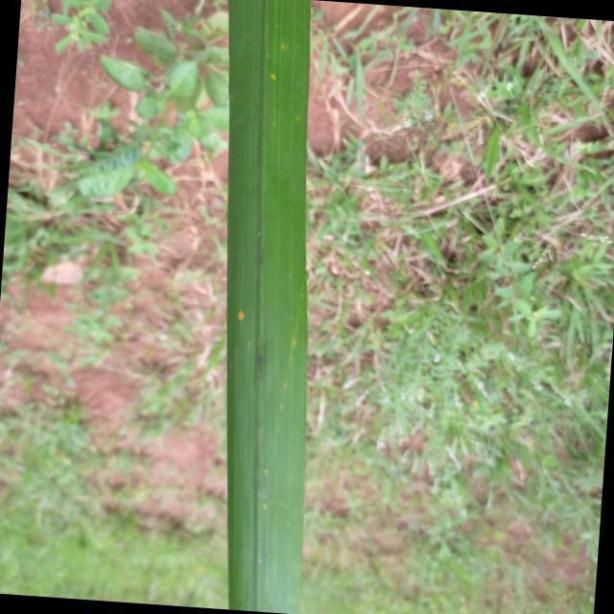Kalium: (222, 3, 320, 614)
